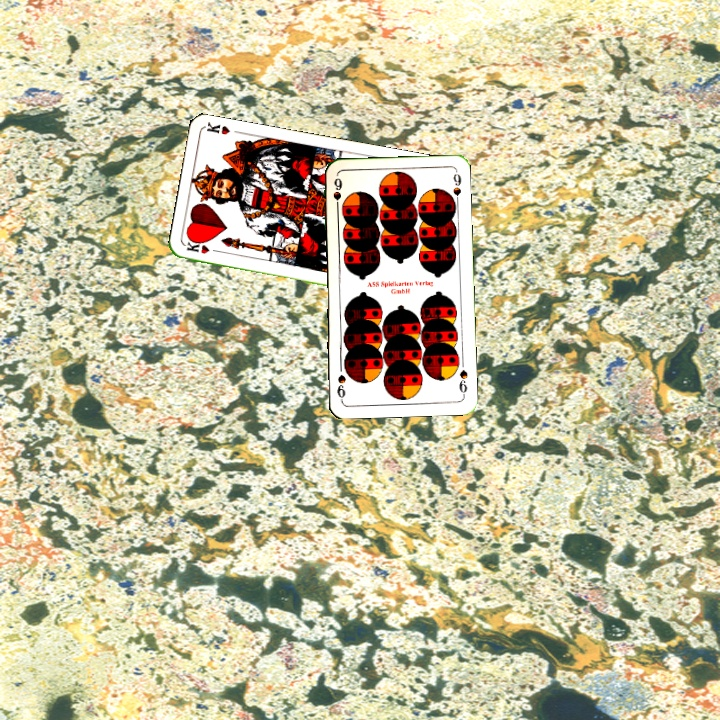HK: (183, 238, 223, 257)
S9: (329, 173, 344, 214), (455, 366, 470, 398)
